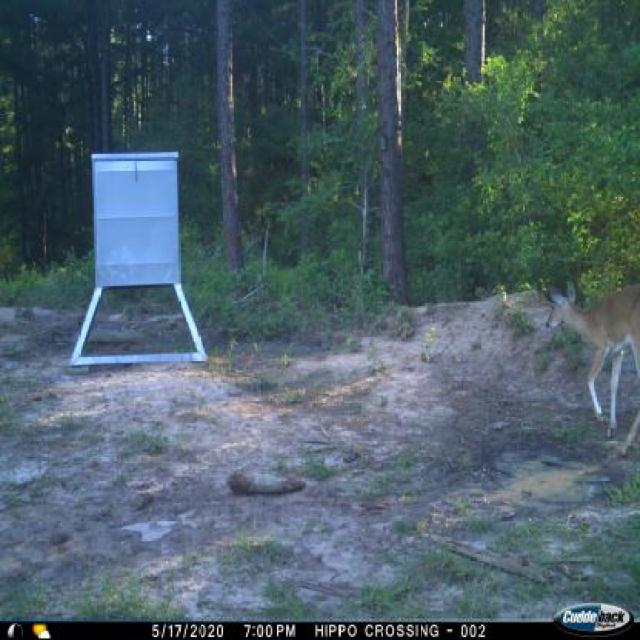Deer: (542, 268, 638, 468)
